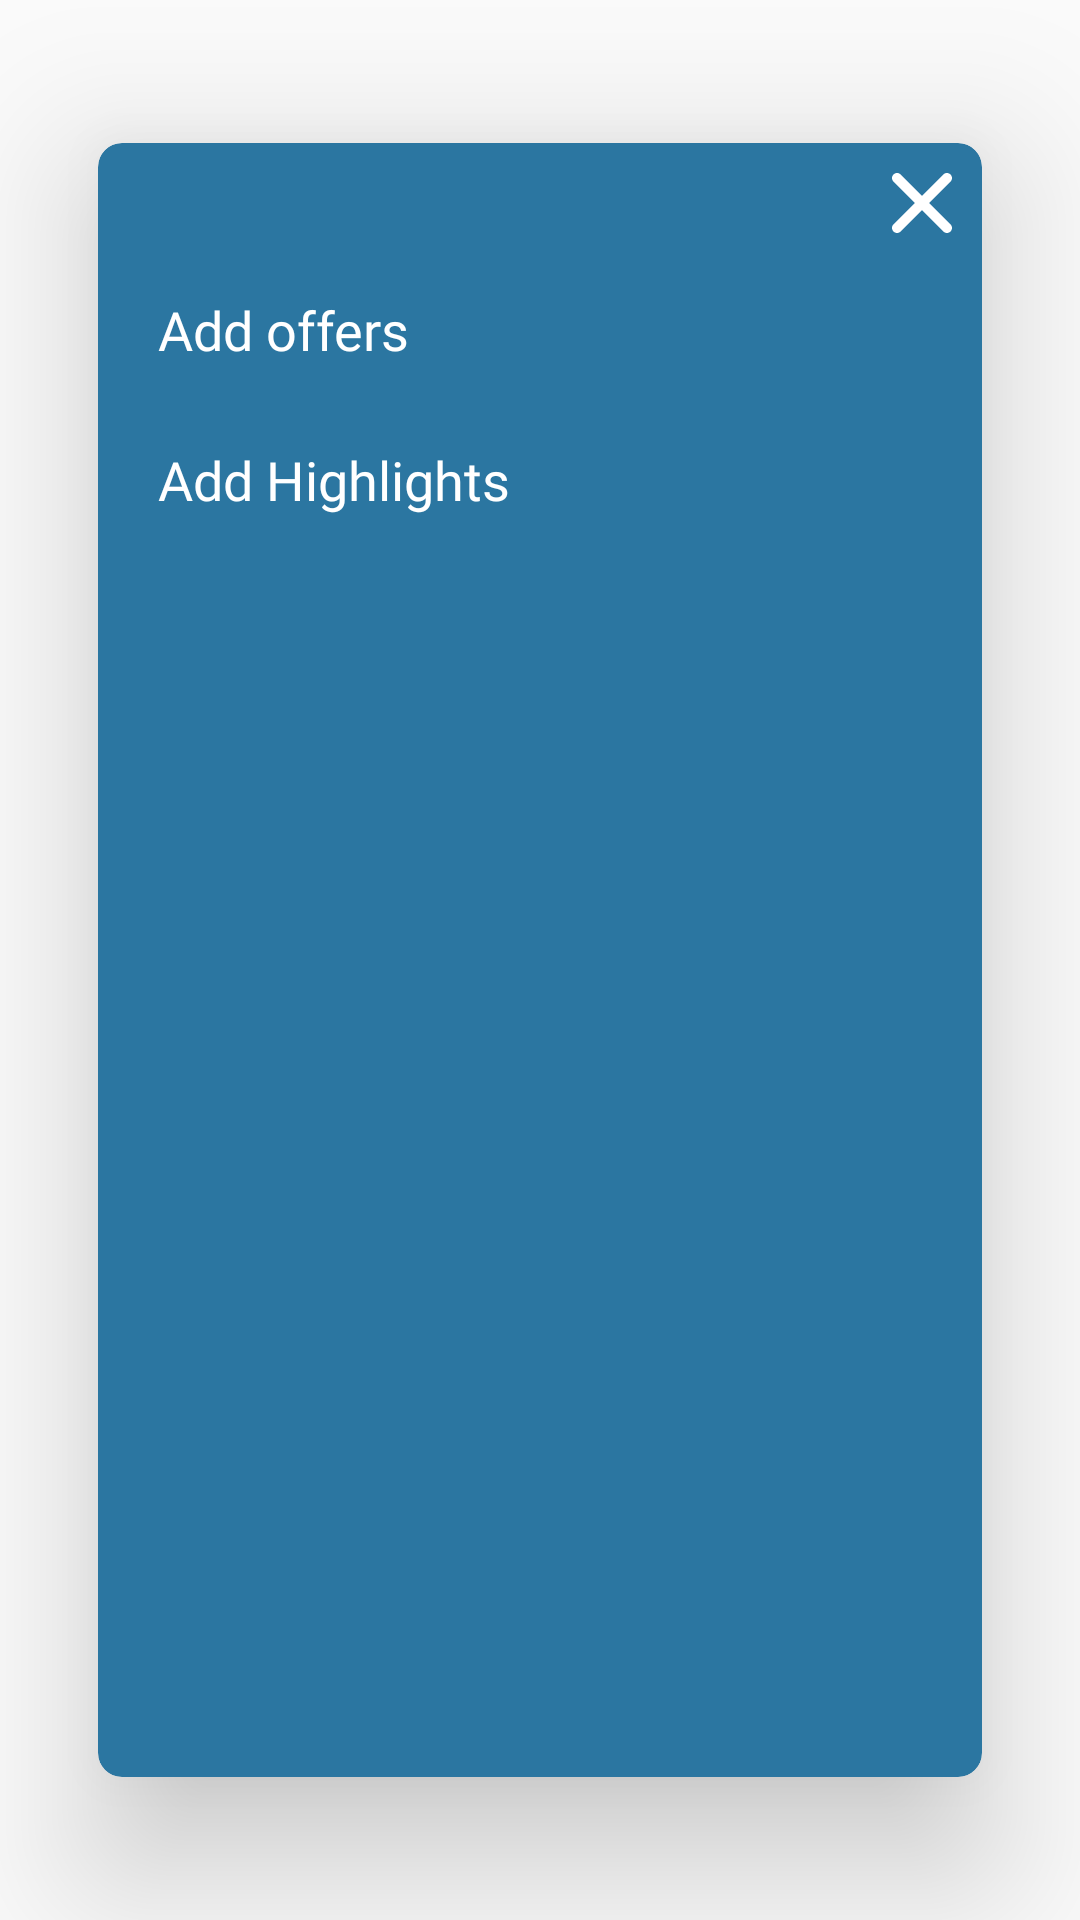

Point at icon controls on the screen. Image size 1080w x 1920h, points as point (x, y).
cancel: point (922, 203)
